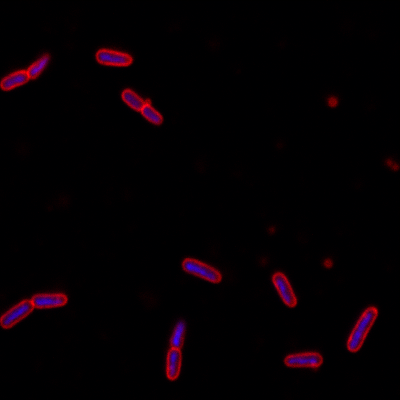Oblique: (1, 53, 50, 92), (165, 320, 186, 382)
Rifampicin: (1, 292, 68, 330), (121, 87, 163, 126), (345, 306, 379, 353), (181, 256, 222, 284), (271, 270, 297, 309), (95, 47, 134, 68), (283, 352, 324, 369)
Vesicle: (327, 96, 338, 108), (323, 257, 333, 270)
